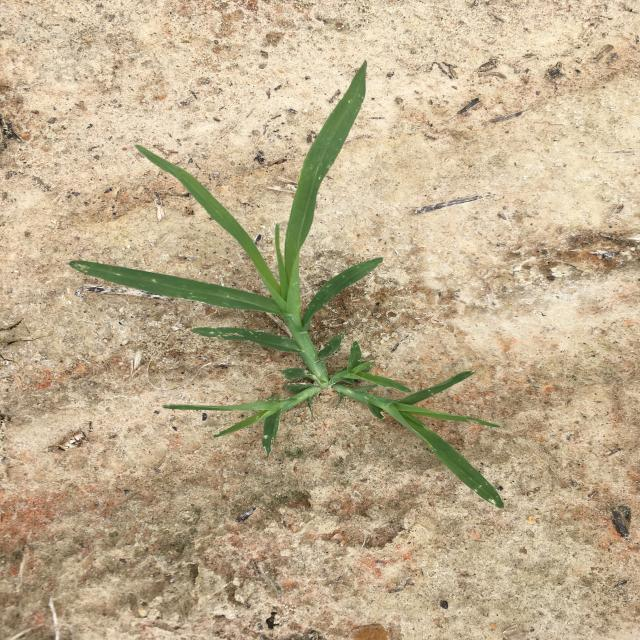Goosegrass: (70, 60, 504, 508)
